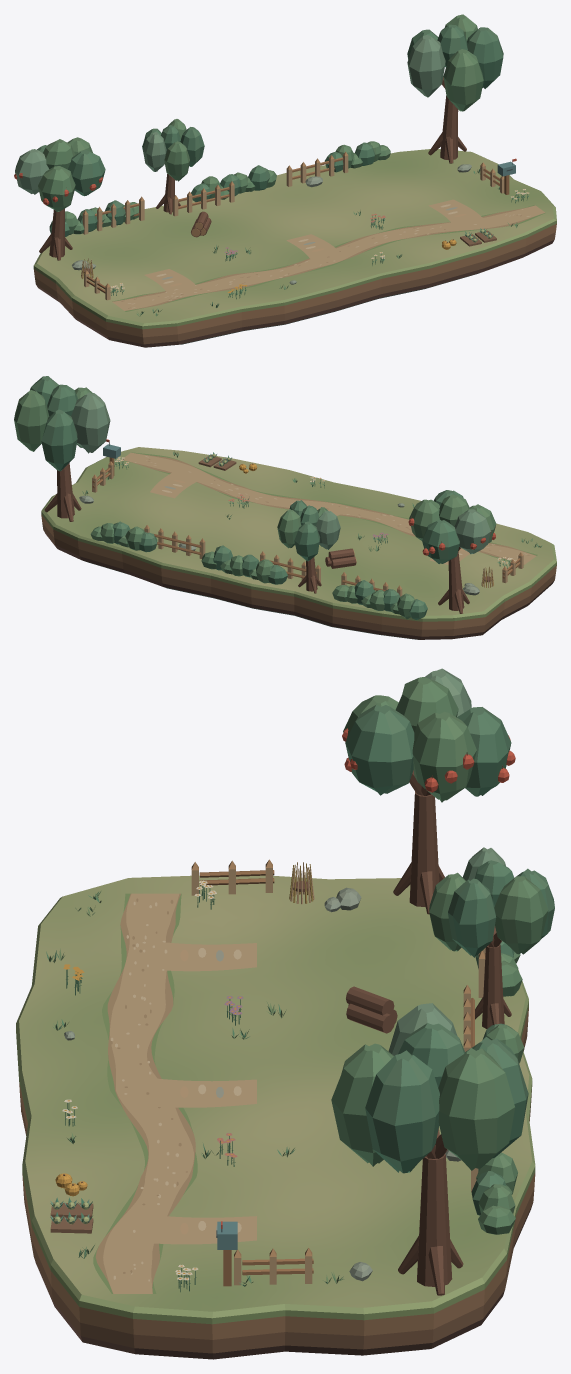
Rendered from village.glb.
3 views of the same model, one above another, from view 1: azimuth 30°, elevation 25°; view 2: azimuth 150°, elevation 25°; view 3: azimuth 270°, elevation 25° (orthographic). The views are drawn at different scales.
Visible parts, largest first — view 1: The lane between three cottages; view 2: The lane between three cottages; view 3: The lane between three cottages.
Part boxes in pixels (left/top/right/bottom): The lane between three cottages: left=14, top=14, right=556, bottom=347; The lane between three cottages: left=14, top=376, right=556, bottom=639; The lane between three cottages: left=16, top=668, right=554, bottom=1359.
Bounding box in the file's own units: 3.42 × 1.08 × 1.7.
